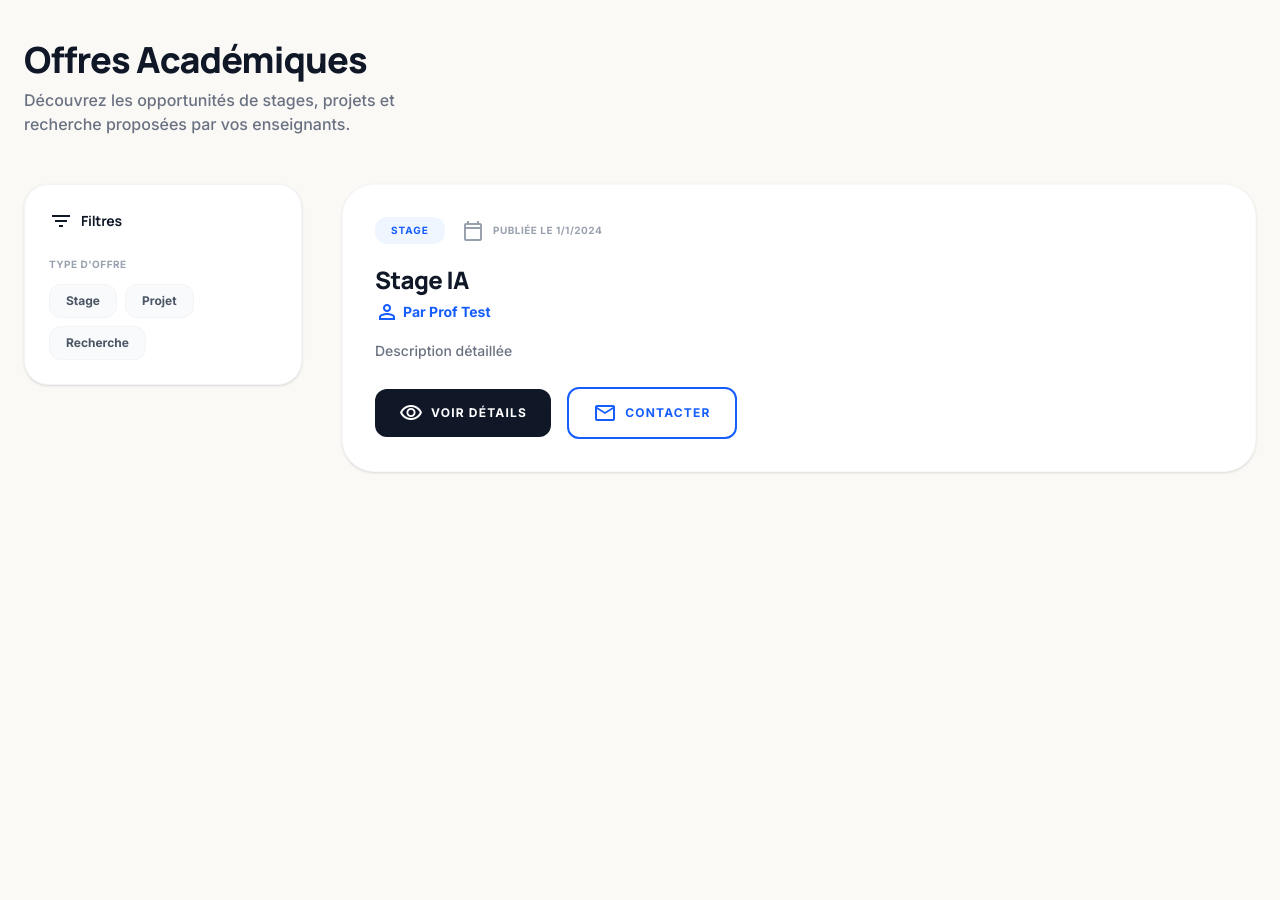
Scenario: EtudiantOffres › ferme le modal de détails
The width and height of the screenshot is (1280, 900).
Expected: the heading "Stage IA" is shown, [375,263,469,296]
Click the button "Voir détails". click: click(463, 413)
box: [375,389,551,437]
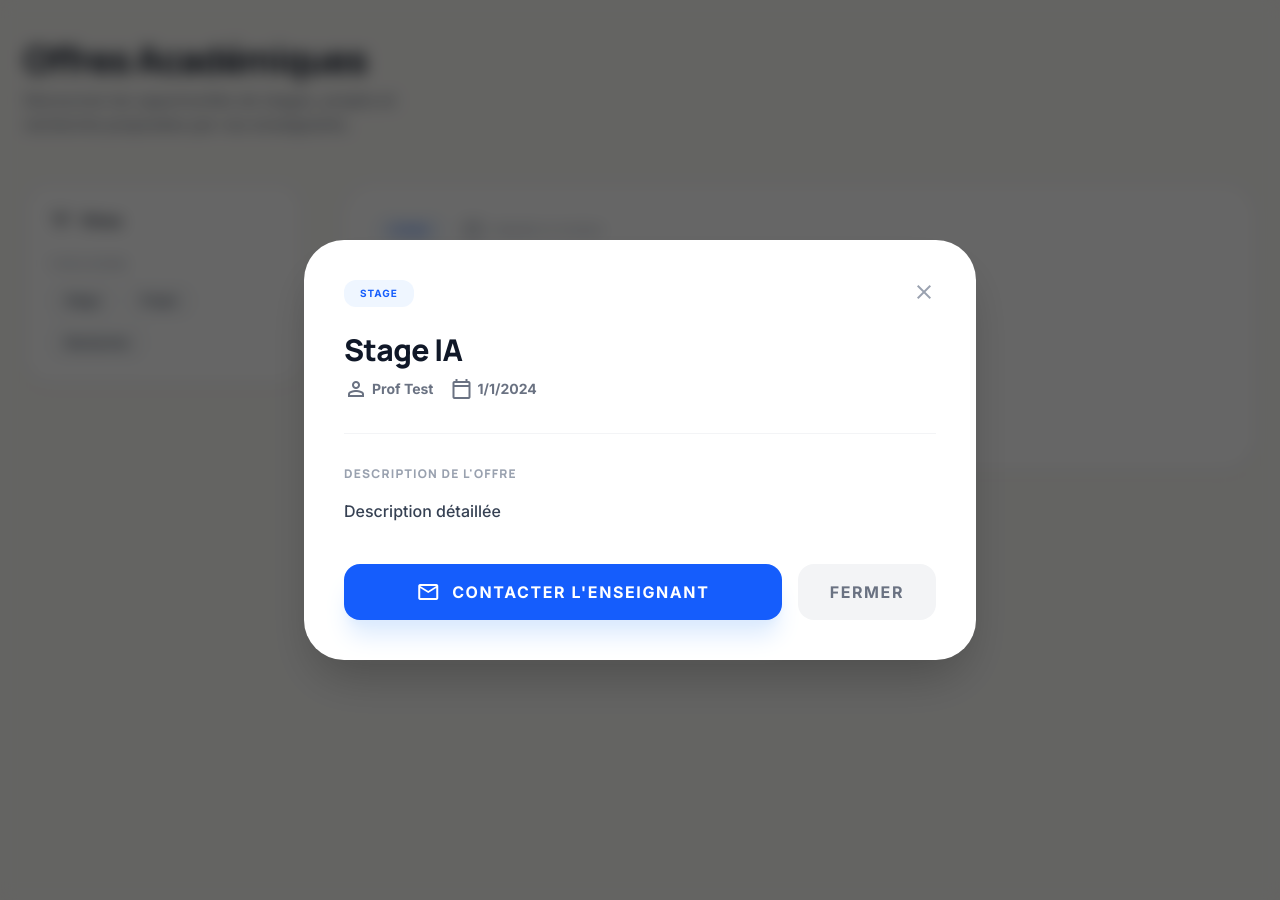
Expected: the heading "Description de l'offre" is shown, [344,466,517,482]
Click the button "Fermer". click: click(867, 592)
box: [798,564,936,620]
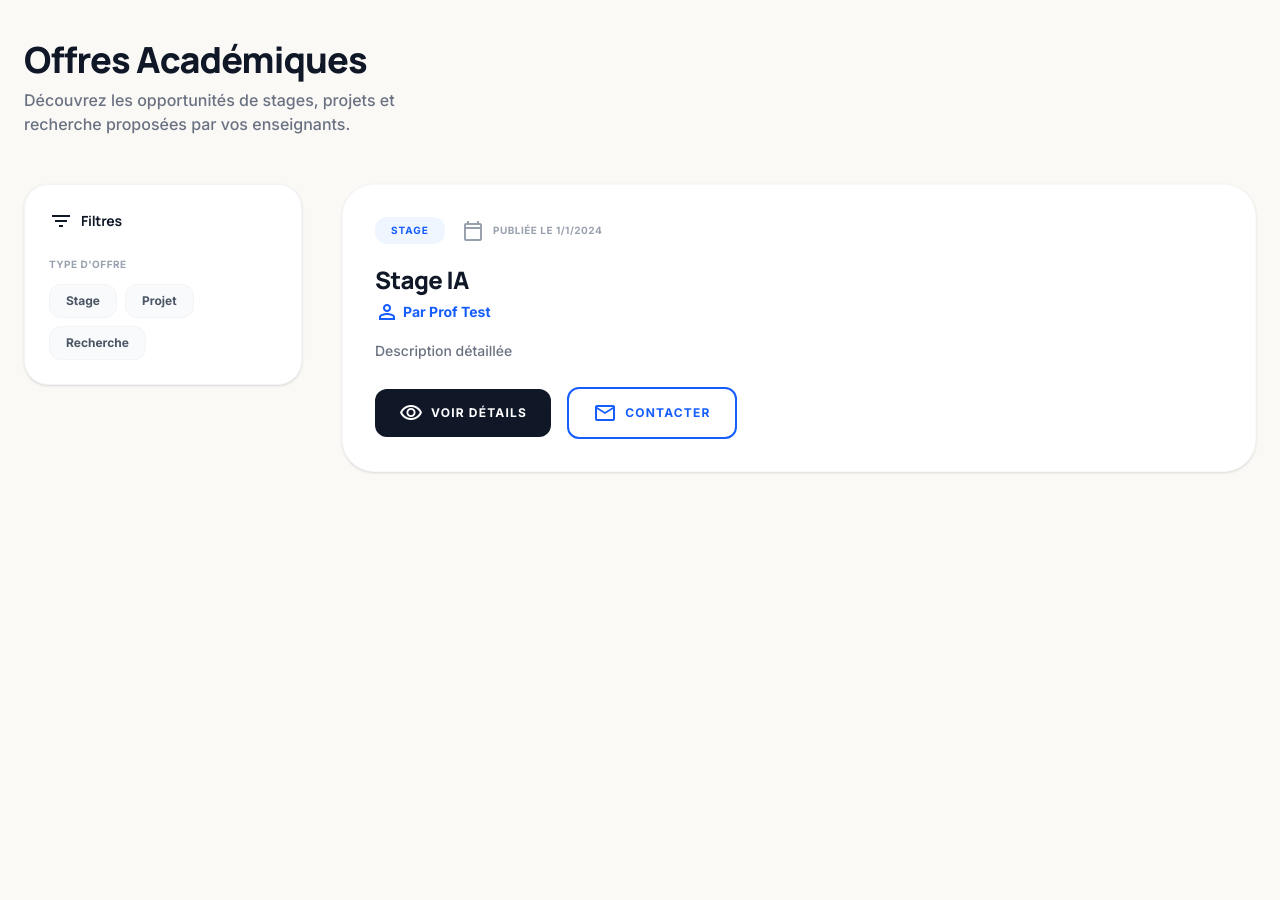
Expected: the heading "Description de l'offre" is gone
